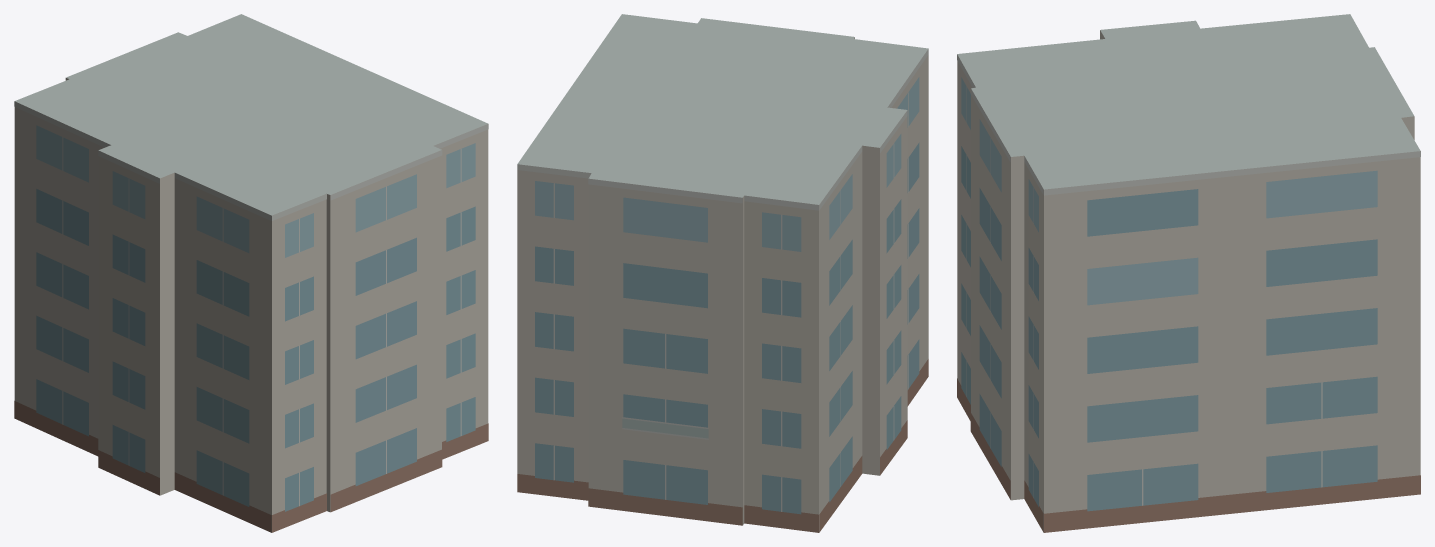
File: survey-upis-32895014.glb
3 renders of one model, left to right at view 1: azimuth 30°, elevation 25°; view 2: azimuth 150°, elevation 25°; view 3: azimuth 270°, elevation 25°, orthographic. The views are drawn at different scales.
Parts seen in each view (by area): view 1: survey-upis-32895014.tmp; view 2: survey-upis-32895014.tmp; view 3: survey-upis-32895014.tmp.
Boxes of the visible parts, bbox=[...] form: survey-upis-32895014.tmp: bbox=[14, 14, 488, 532]; survey-upis-32895014.tmp: bbox=[517, 14, 928, 532]; survey-upis-32895014.tmp: bbox=[957, 14, 1420, 532].
Size of the model in its own units: 15.25 by 13.9 by 17.02.
